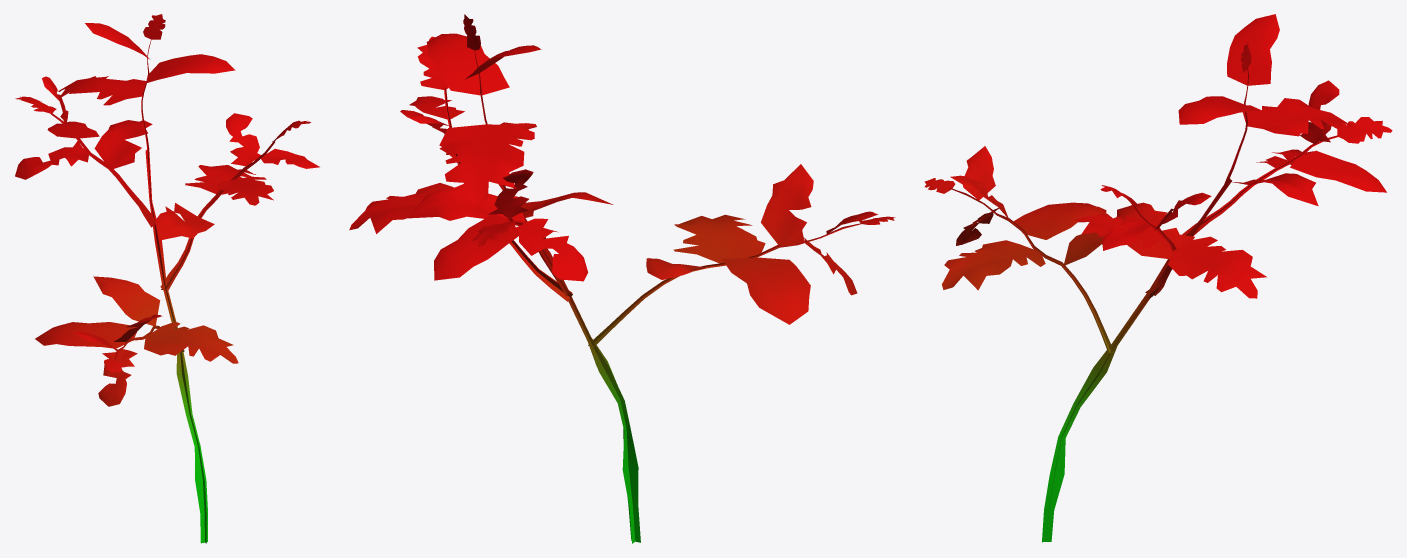
File: Black Locust_LOD2_Var8.fbx
3 renders of one model, left to right at view 1: azimuth 30°, elevation 25°; view 2: azimuth 150°, elevation 25°; view 3: azimuth 270°, elevation 25°, orthographic. The views are drawn at different scales.
Parts seen in each view (by area): view 1: _3hf0_Var8_LOD2; view 2: _3hf0_Var8_LOD2; view 3: _3hf0_Var8_LOD2.
Part boxes in pixels (<box>): _3hf0_Var8_LOD2: <box>15,14,319,543</box>; _3hf0_Var8_LOD2: <box>349,14,895,543</box>; _3hf0_Var8_LOD2: <box>924,14,1392,542</box>.
Bounding box in the file's own units: 59.22 × 85.98 × 70.06.
